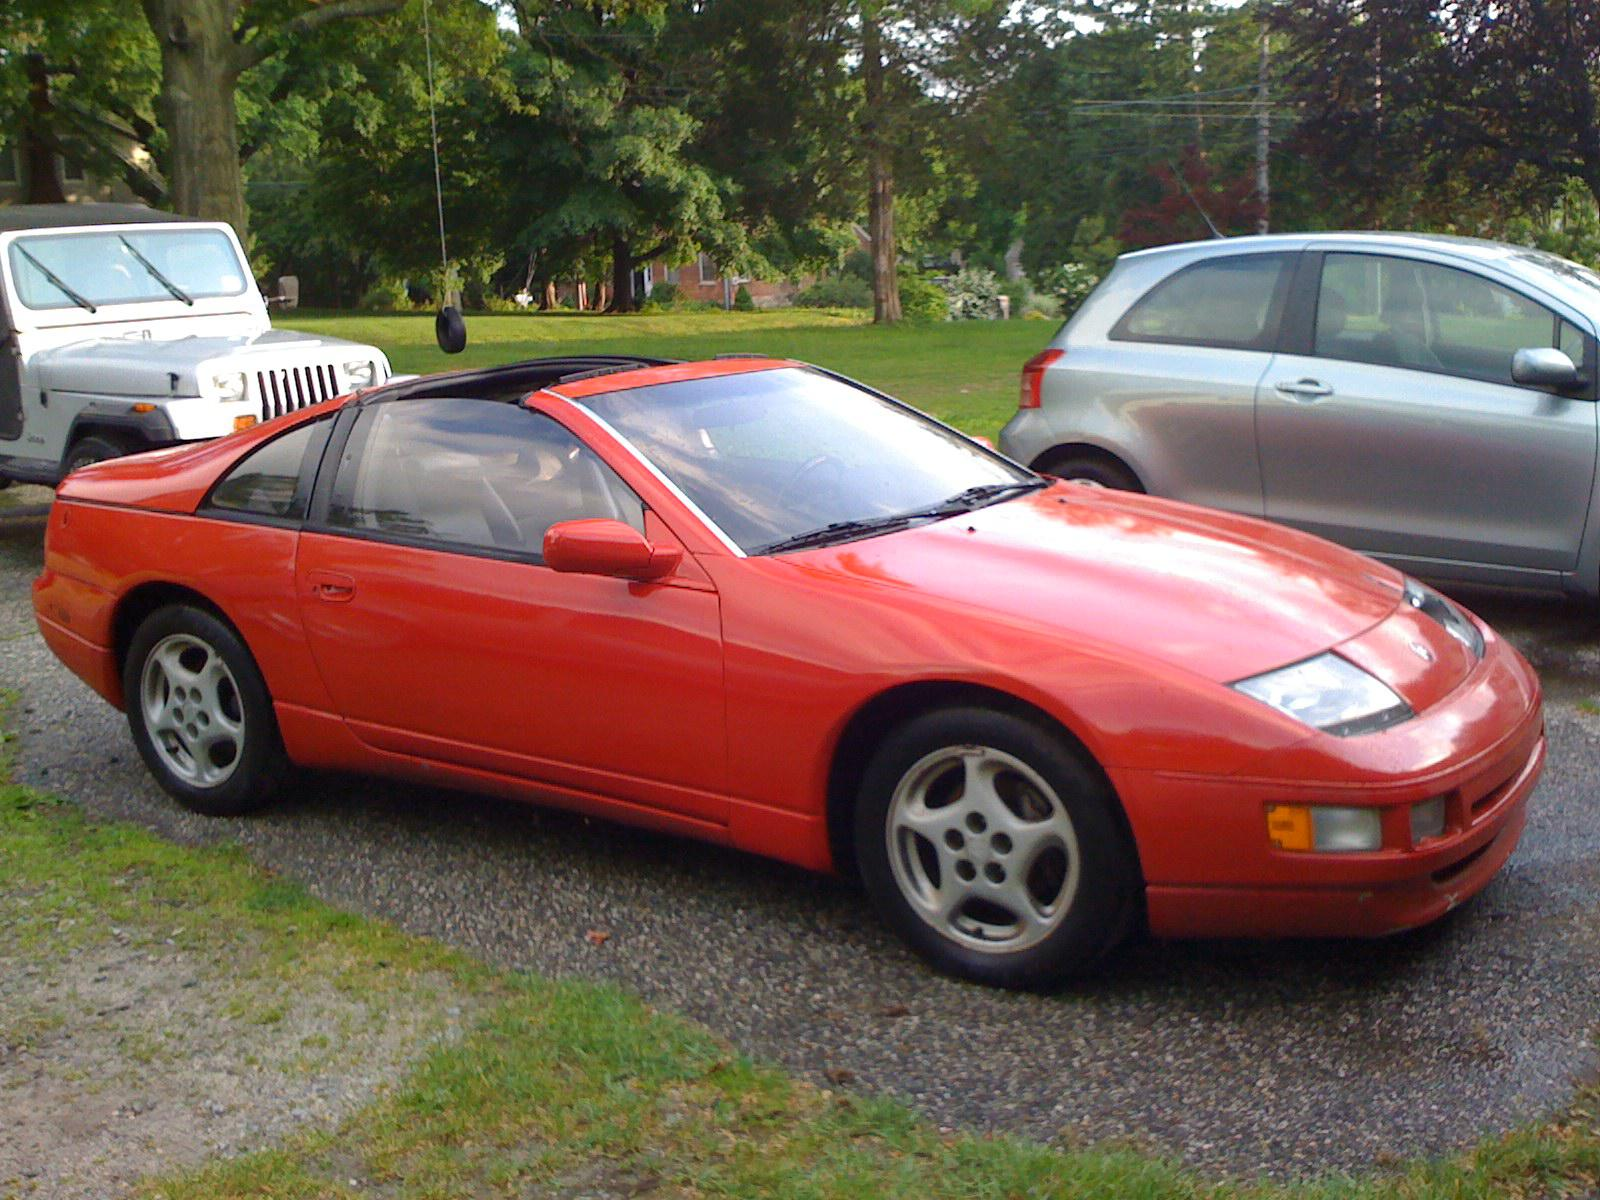doorouter-dent: (299, 483, 523, 773)
quaterpanel-dent: (81, 507, 307, 742)
